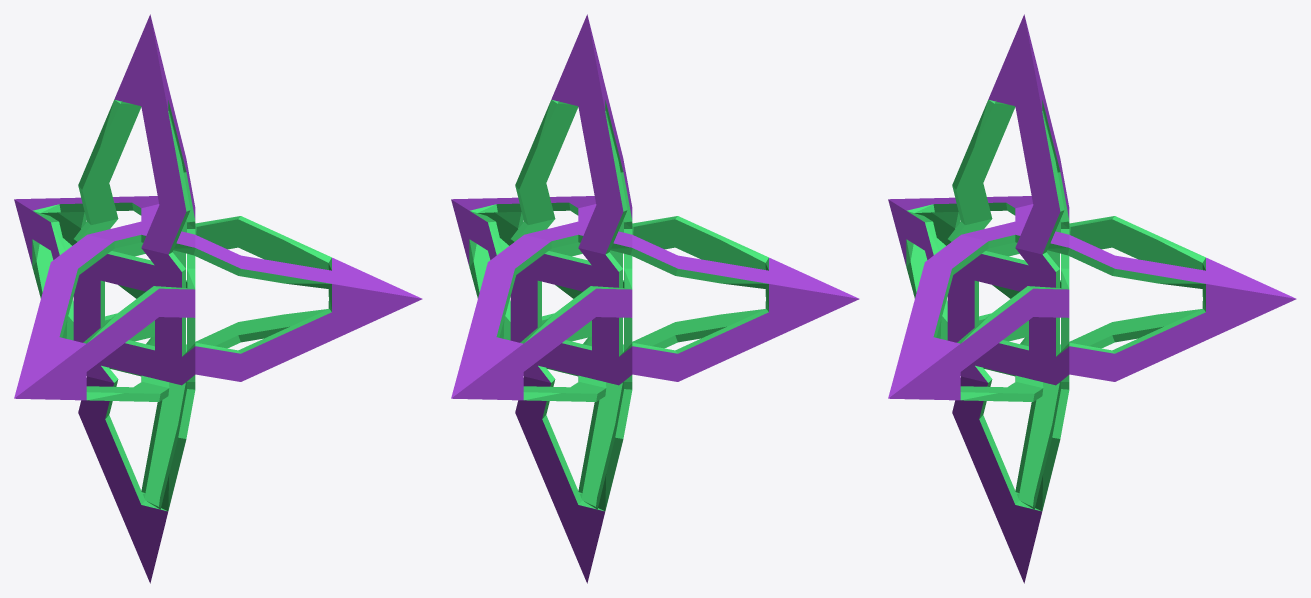
The model's file is PrismicPolyknot3.glb.
3 renders of one model, left to right at view 1: azimuth 30°, elevation 25°; view 2: azimuth 150°, elevation 25°; view 3: azimuth 270°, elevation 25°, orthographic.
Visible parts, largest first — view 1: OK_ESCHER_BBBa_PRISM3; view 2: OK_ESCHER_BBBa_PRISM3; view 3: OK_ESCHER_BBBa_PRISM3.
Boxes of the visible parts, x1,y1,x2,y2 form: OK_ESCHER_BBBa_PRISM3: (14,14,422,583); OK_ESCHER_BBBa_PRISM3: (451,14,859,583); OK_ESCHER_BBBa_PRISM3: (888,14,1296,583).
Size of the model in its own units: 113 by 150 by 97.54.
